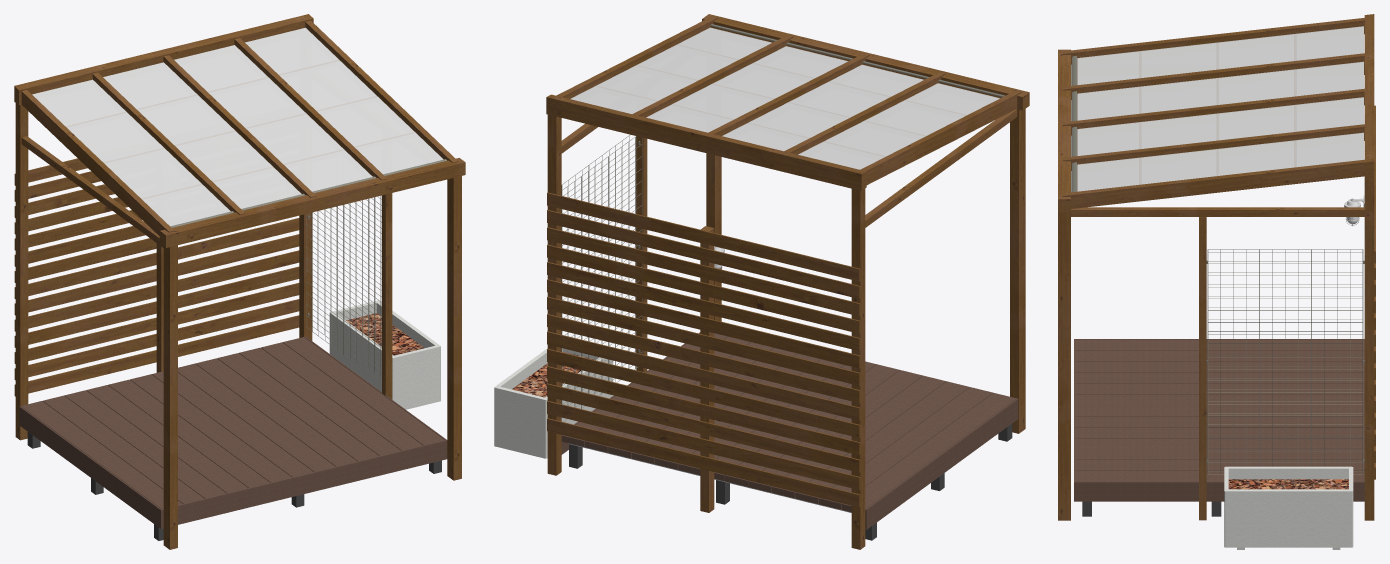
File: spg1-g_naturalpine.fbx
The picture shows the model from 3 angles, left to right: view 1: azimuth 30°, elevation 25°; view 2: azimuth 150°, elevation 25°; view 3: azimuth 270°, elevation 25°; orthographic projection. The views are drawn at different scales.
Visible parts, largest first — view 1: spg1-g_naturalpine_ファニチャーなし.001; view 2: spg1-g_naturalpine_ファニチャーなし.001; view 3: spg1-g_naturalpine_ファニチャーなし.001.
Boxes of the visible parts, x1,y1,x2,y2 form: spg1-g_naturalpine_ファニチャーなし.001: (14, 14, 465, 549); spg1-g_naturalpine_ファニチャーなし.001: (494, 14, 1029, 549); spg1-g_naturalpine_ファニチャーなし.001: (1058, 14, 1375, 549).
Size of the model in its own units: 326 by 308 by 246.
15 materials, 9 textured.
